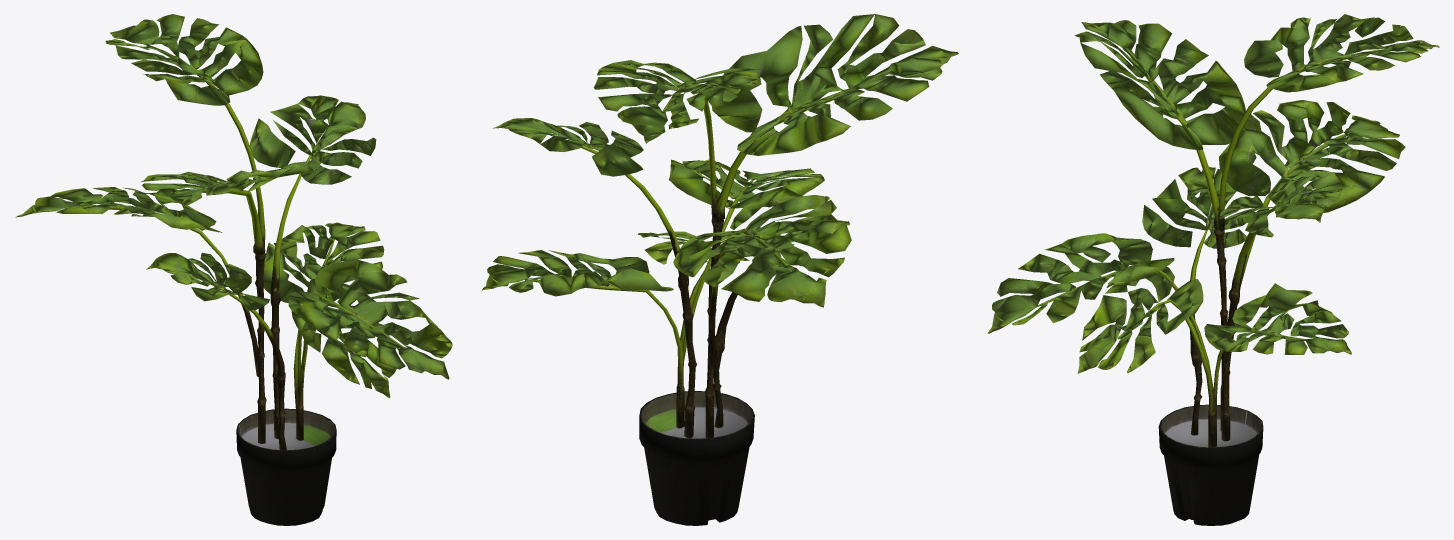
File: monstera+plant+3d+model.glb
3 renders of one model, left to right at view 1: azimuth 30°, elevation 25°; view 2: azimuth 150°, elevation 25°; view 3: azimuth 270°, elevation 25°, orthographic. The views are drawn at different scales.
Parts seen in each view (by area): view 1: tripo_node_fea9fccc-c6a8-40a3-b35a-87d6bd7ef2a3; view 2: tripo_node_fea9fccc-c6a8-40a3-b35a-87d6bd7ef2a3; view 3: tripo_node_fea9fccc-c6a8-40a3-b35a-87d6bd7ef2a3.
Boxes of the visible parts, x1=… form: tripo_node_fea9fccc-c6a8-40a3-b35a-87d6bd7ef2a3: x1=15, y1=14, x2=452, y2=525; tripo_node_fea9fccc-c6a8-40a3-b35a-87d6bd7ef2a3: x1=481, y1=14, x2=958, y2=525; tripo_node_fea9fccc-c6a8-40a3-b35a-87d6bd7ef2a3: x1=987, y1=14, x2=1439, y2=525.
Size of the model in its own units: 0.7832 by 0.998 by 0.9121.
1 material, 1 textured.
